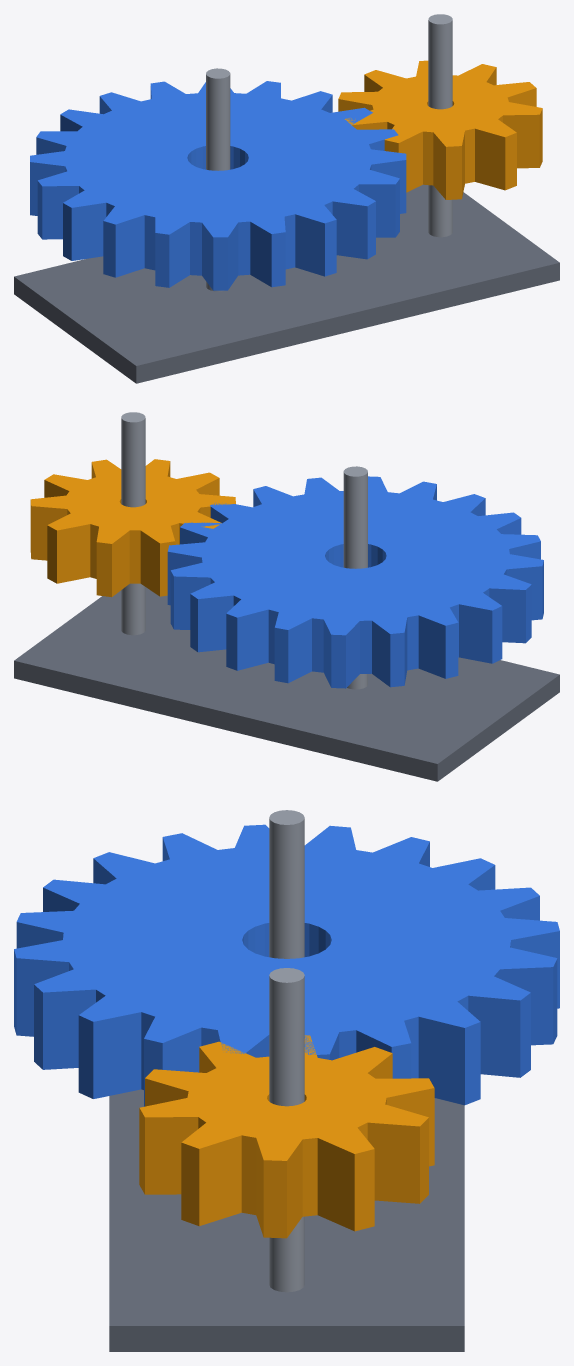
The model's file is zahnrad.glb.
The picture shows the model from 3 angles, top to bottom: view 1: azimuth 30°, elevation 25°; view 2: azimuth 150°, elevation 25°; view 3: azimuth 270°, elevation 25°; orthographic projection. The views are drawn at different scales.
Parts seen in each view (by area): view 1: Antriebsrad (20 Zähne), Grundplatte, Abtriebsrad (10 Zähne), Welle (×2); view 2: Antriebsrad (20 Zähne), Grundplatte, Abtriebsrad (10 Zähne), Welle (×2); view 3: Antriebsrad (20 Zähne), Grundplatte, Abtriebsrad (10 Zähne), Welle (×2).
Part boxes in pixels (box(x1,y1,x2,y2)): Antriebsrad (20 Zähne): box(30, 81, 406, 290); Grundplatte: box(14, 184, 559, 383); Abtriebsrad (10 Zähne): box(338, 60, 542, 199); Welle (×2): box(206, 14, 452, 291); Antriebsrad (20 Zähne): box(167, 476, 543, 688); Grundplatte: box(14, 587, 559, 781); Abtriebsrad (10 Zähne): box(30, 459, 235, 597); Welle (×2): box(121, 412, 367, 689); Antriebsrad (20 Zähne): box(14, 824, 559, 1106); Grundplatte: box(109, 1089, 464, 1351); Abtriebsrad (10 Zähne): box(139, 1035, 434, 1238); Welle (×2): box(269, 810, 304, 1292).
Size of the model in its own units: 1.12 by 0.52 by 0.7676.
